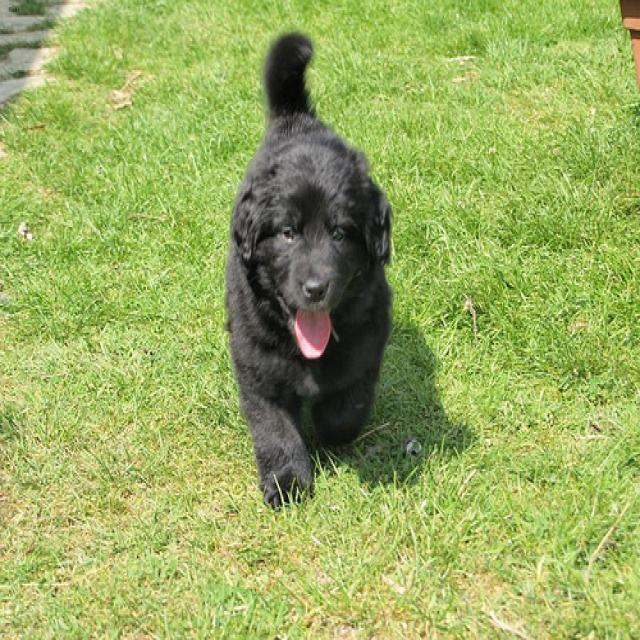dog-newfoundland: (220, 22, 399, 517)
